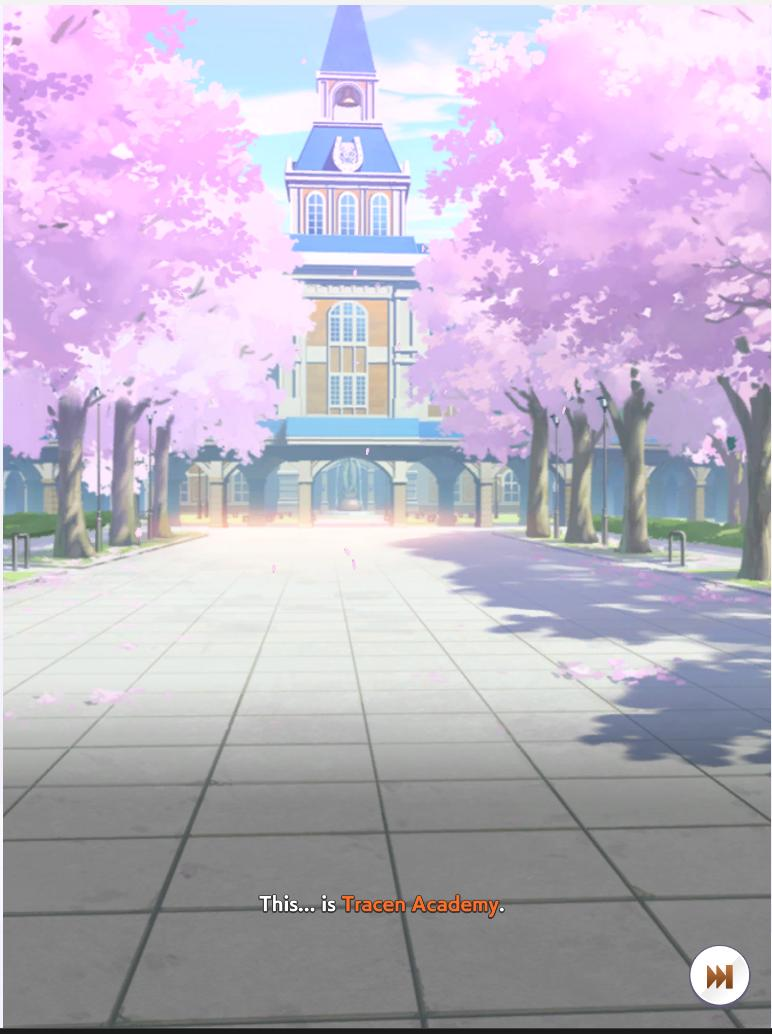skip: (686, 943, 752, 1008)
